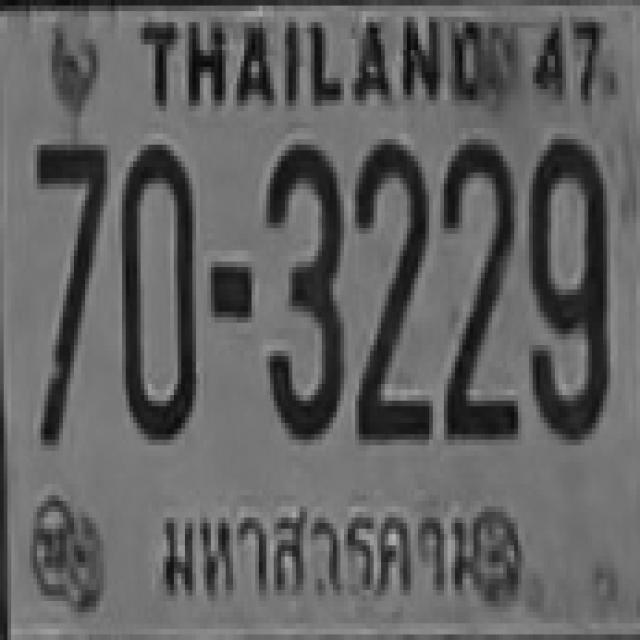0: (119, 142, 192, 437)
2: (353, 139, 428, 440), (440, 136, 514, 437), (353, 139, 428, 418), (440, 136, 514, 415)
3: (263, 139, 340, 434)
7: (33, 139, 104, 440)
9: (525, 134, 607, 434)
MahaSarakham: (142, 484, 493, 602)
